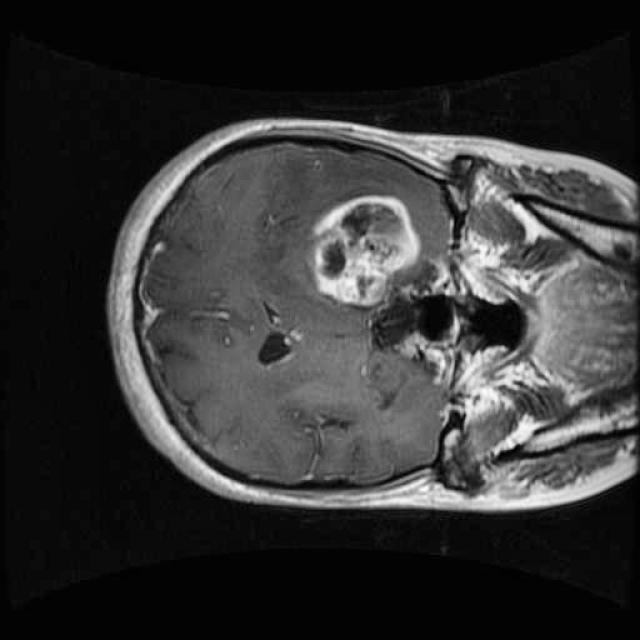Tumor: (298, 178, 438, 321)
